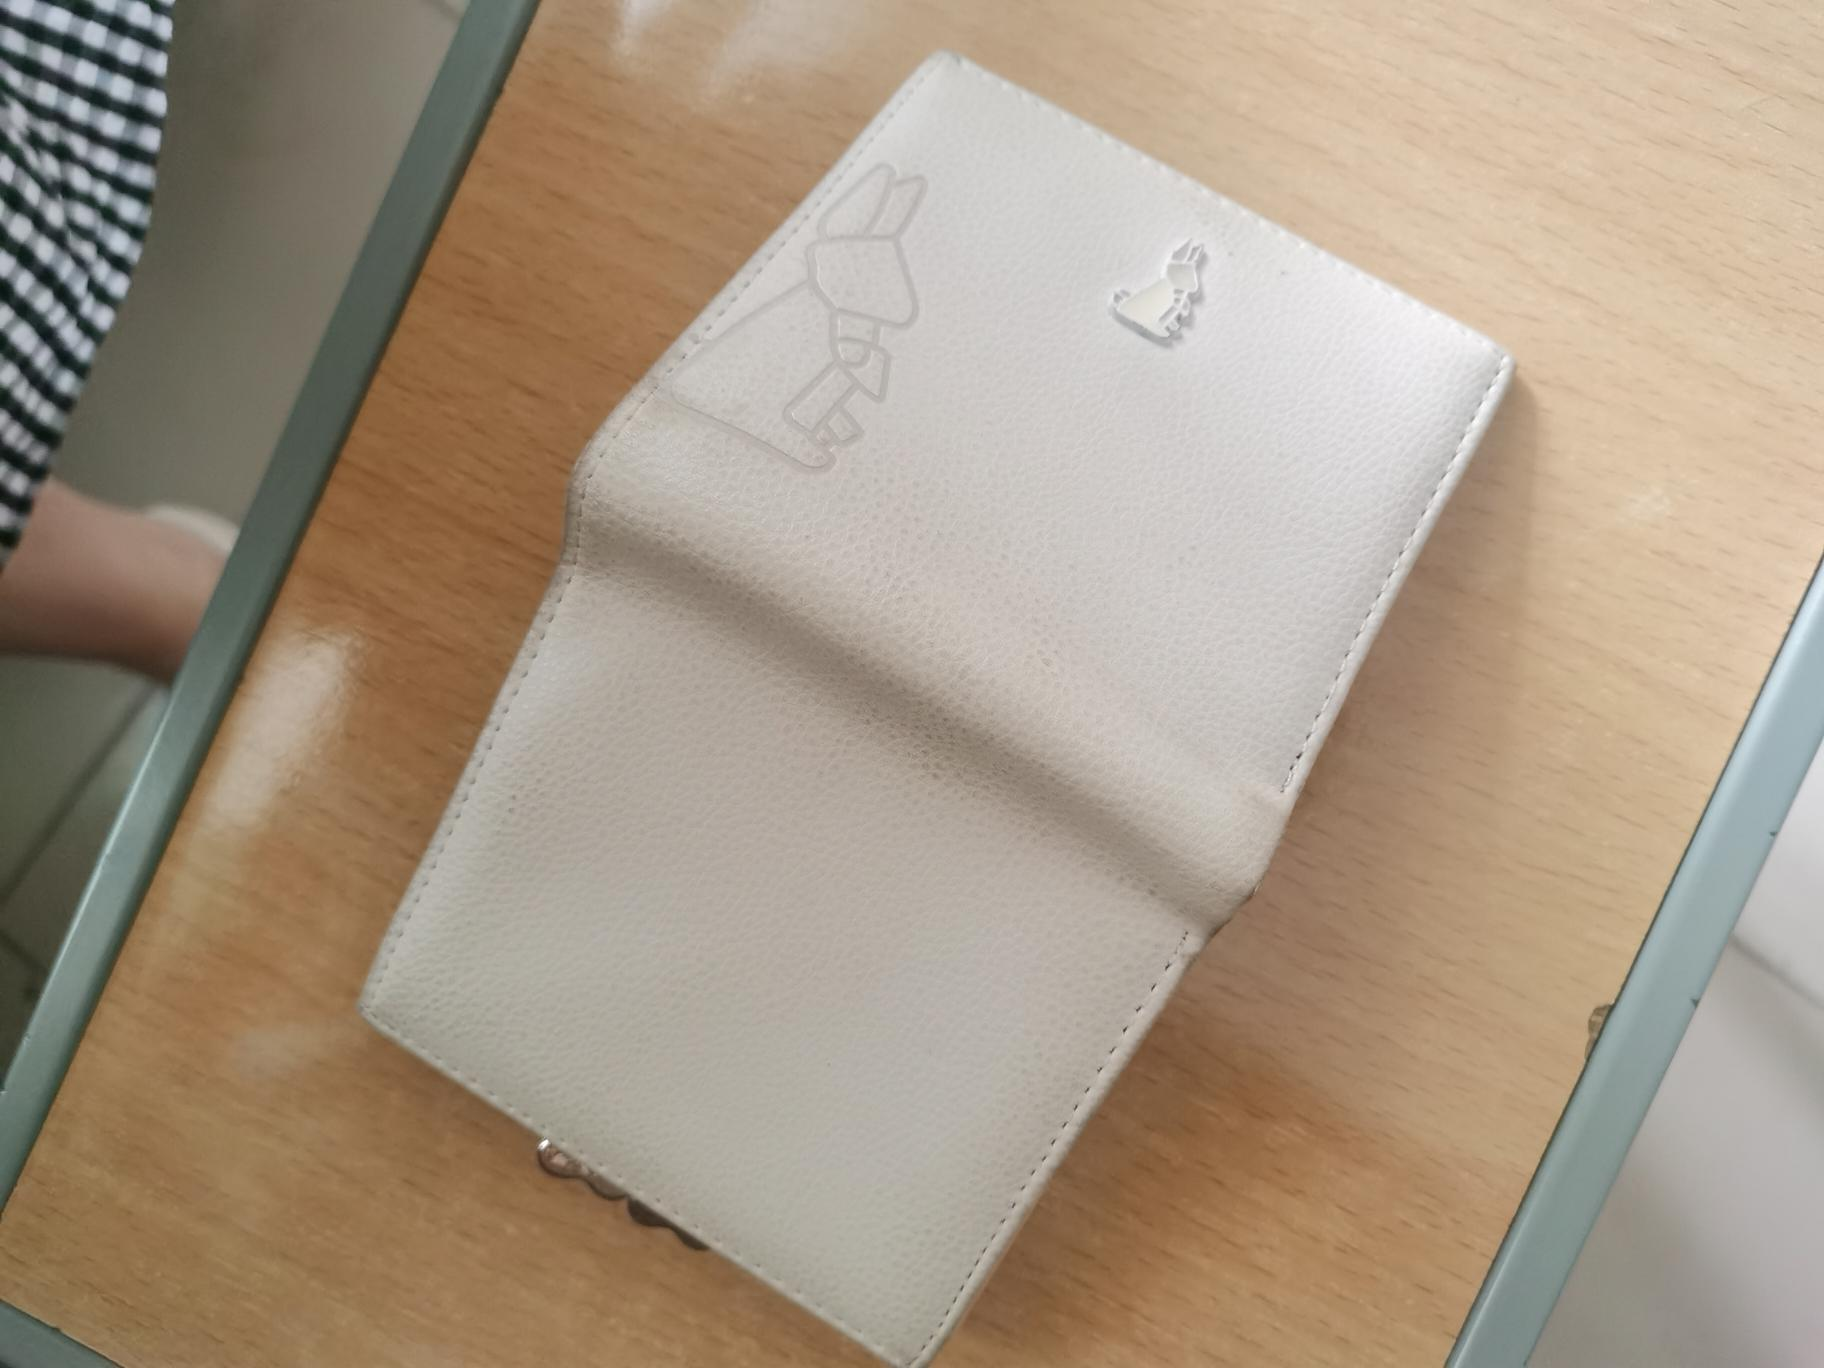wallet: (343, 19, 1558, 1355)
